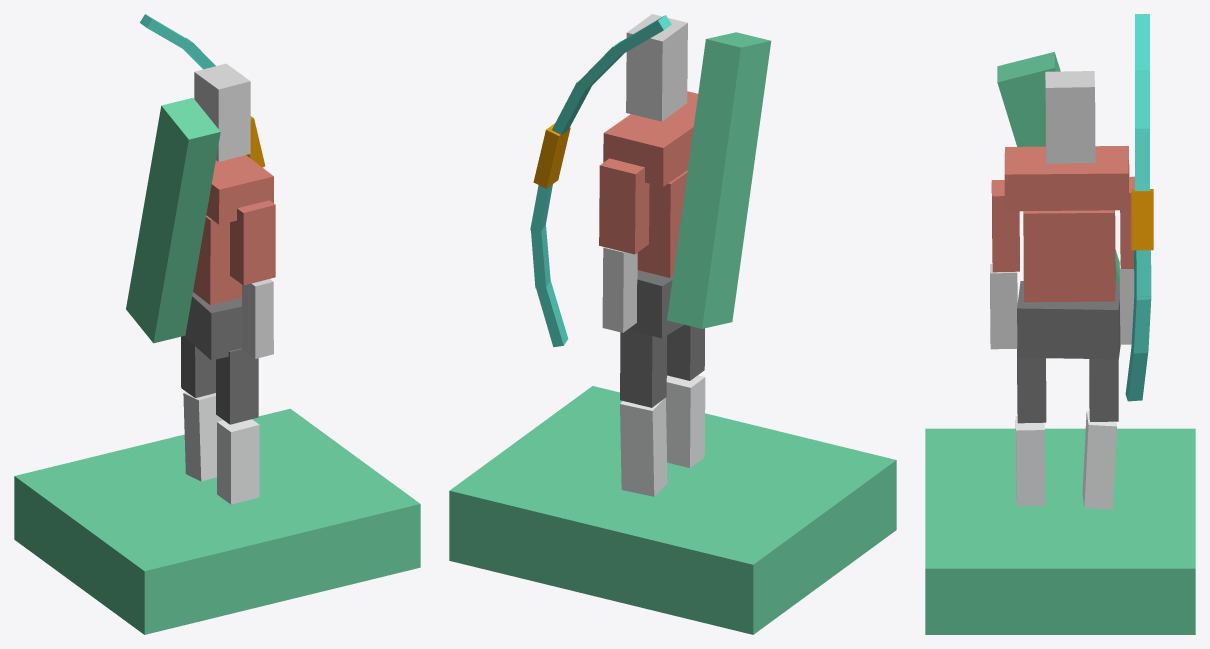
The model's file is archer.gltf.
3 renders of one model, left to right at view 1: azimuth 30°, elevation 25°; view 2: azimuth 150°, elevation 25°; view 3: azimuth 270°, elevation 25°, orthographic. The views are drawn at different scales.
Parts seen in each view (by area): view 1: BASE, Cube (×2), Cube5, Cube6, Cube9, Cube1, Cube10, Cube8, Cube7, Cube12, Cube3, Cube11; view 2: BASE, Cube (×8), Cube5, Cube1, Cube4, Cube12, Cube9, Cube11, Cube7, Cube2, Cube8, Cube10; view 3: BASE, Cube (×8), Cube7, Cube1, Cube8, Cube5, Cube12, Cube9, Cube3, Cube6, Cube10, Cube11 (+2 smaller).
Boxes of the visible parts, x1,y1,x2,y2 form: BASE: [14, 408, 420, 634]; Cube (×2): [126, 14, 220, 343]; Cube5: [194, 63, 250, 161]; Cube6: [230, 200, 275, 285]; Cube9: [217, 419, 259, 504]; Cube1: [206, 155, 273, 224]; Cube10: [216, 348, 258, 424]; Cube8: [184, 292, 241, 360]; Cube7: [193, 215, 241, 305]; Cube12: [183, 392, 223, 481]; Cube3: [242, 279, 273, 358]; Cube11: [181, 336, 215, 397]; BASE: [449, 386, 896, 634]; Cube (×8): [530, 15, 771, 347]; Cube5: [626, 14, 687, 121]; Cube1: [603, 91, 698, 186]; Cube4: [599, 158, 649, 254]; Cube12: [620, 397, 667, 496]; Cube9: [666, 375, 705, 467]; Cube11: [620, 329, 666, 407]; Cube7: [637, 170, 687, 277]; Cube2: [602, 247, 637, 332]; Cube8: [628, 270, 683, 338]; Cube10: [667, 324, 704, 380]; BASE: [925, 428, 1195, 634]; Cube (×8): [997, 14, 1153, 401]; Cube7: [1023, 210, 1115, 302]; Cube1: [1004, 146, 1129, 211]; Cube8: [1017, 281, 1120, 359]; Cube5: [1045, 71, 1095, 163]; Cube12: [1082, 410, 1116, 509]; Cube9: [1015, 416, 1045, 506]; Cube3: [990, 264, 1017, 349]; Cube6: [991, 180, 1019, 272]; Cube10: [1017, 349, 1046, 423]; Cube11: [1089, 359, 1118, 421].
Bounding box in the file's own units: 11.44 × 20.41 × 9.34.
